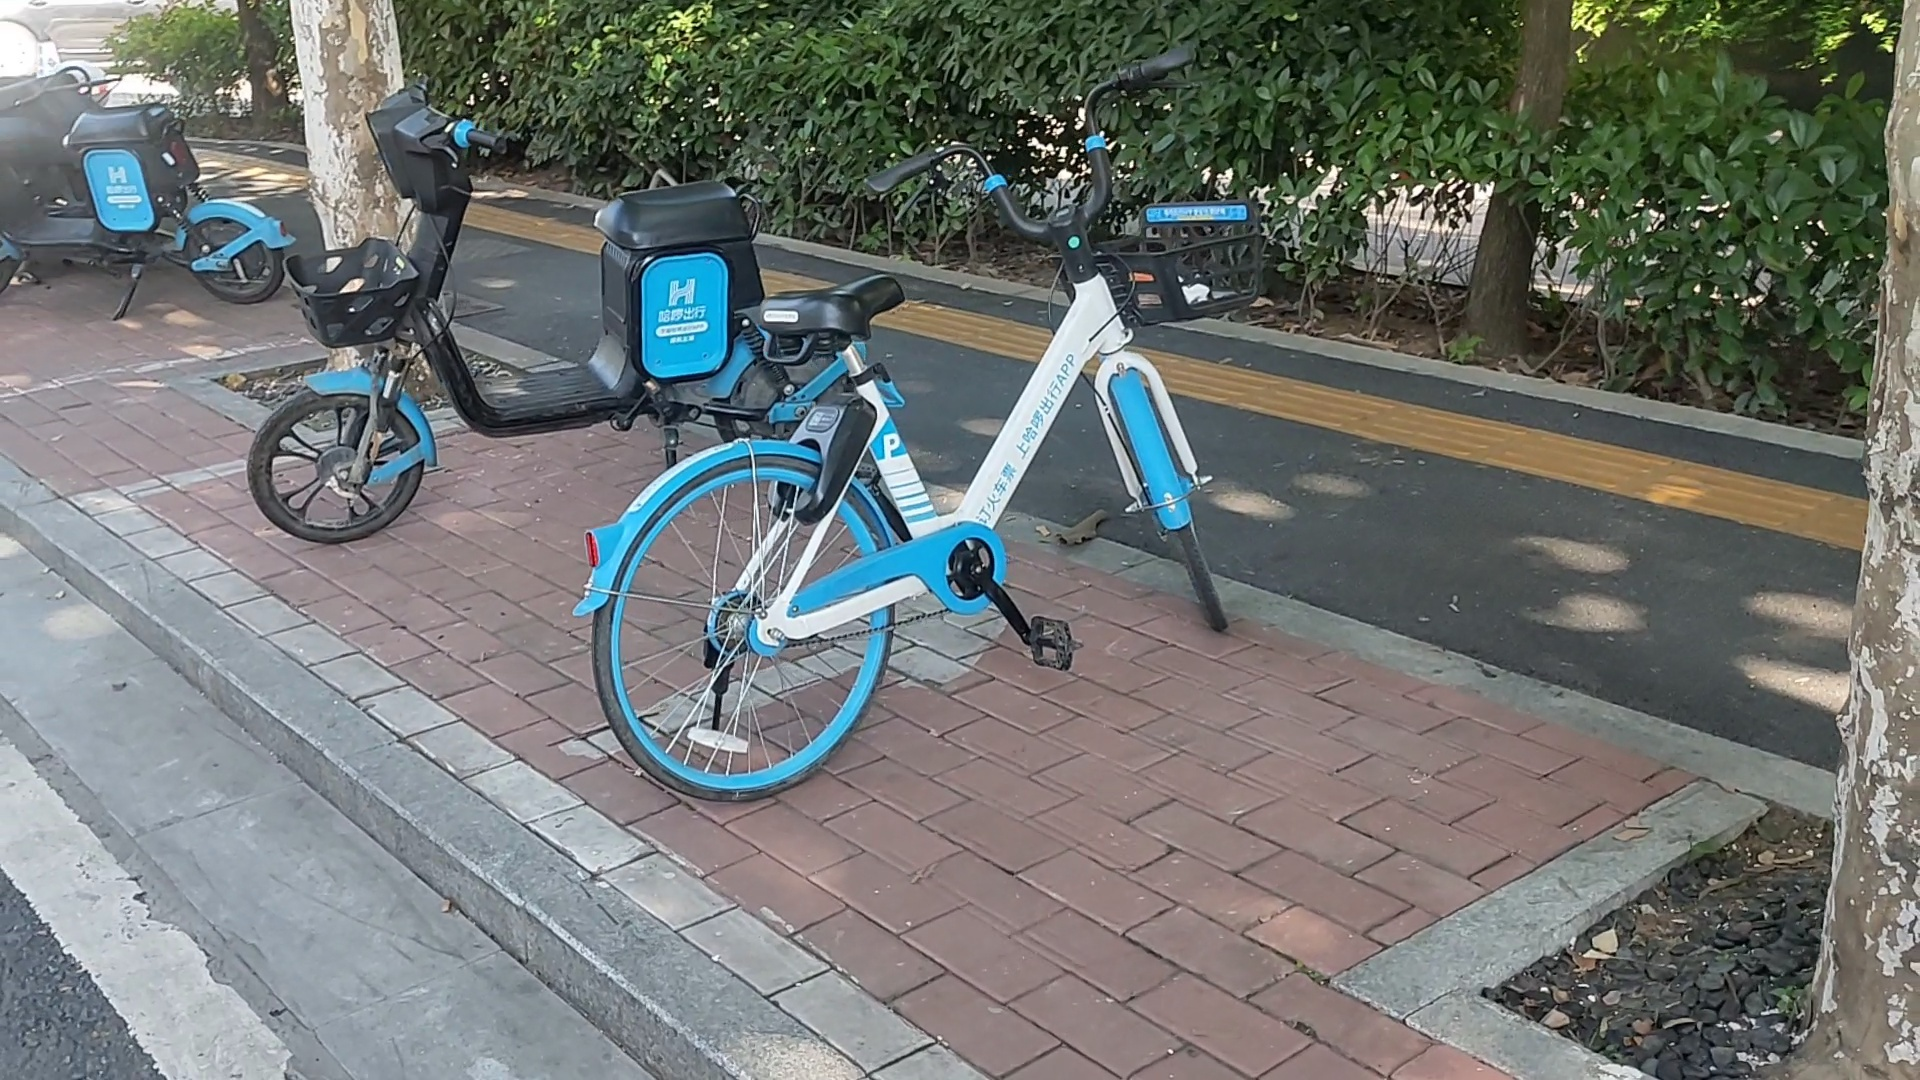non-vehicle: (568, 113, 1271, 816), (247, 76, 897, 554), (0, 44, 294, 328)
